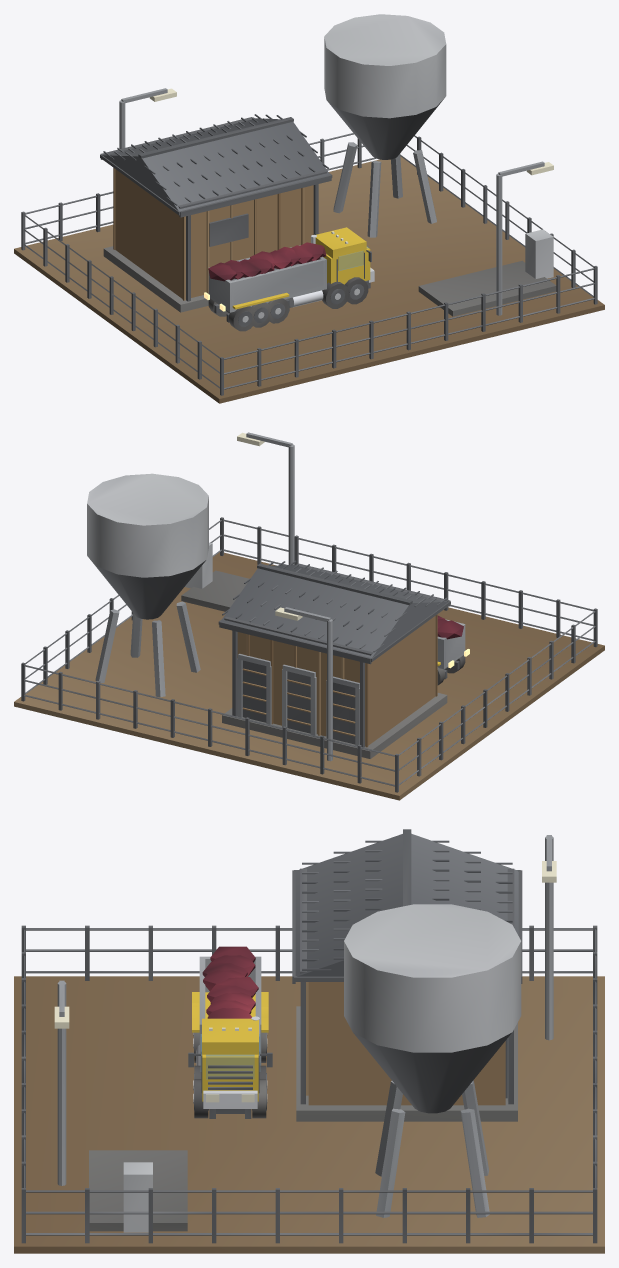
Rendered from Haul_P1.fbx.
3 renders of one model, top to bottom at view 1: azimuth 30°, elevation 25°; view 2: azimuth 150°, elevation 25°; view 3: azimuth 270°, elevation 25°, orthographic. The views are drawn at different scales.
Visible parts, largest first — view 1: Haul.Yard, Haul.Workshop, Haul.Hopper, Haul.Parked0, Haul.Fence, Haul.Weighbridge, Haul.Lamp0, Haul.Lamp1; view 2: Haul.Yard, Haul.Workshop, Haul.Hopper, Haul.Fence, Haul.Weighbridge, Haul.Parked0, Haul.Lamp1, Haul.Lamp0; view 3: Haul.Yard, Haul.Hopper, Haul.Workshop, Haul.Fence, Haul.Parked0, Haul.Weighbridge, Haul.Lamp0, Haul.Lamp1.
Part boxes in pixels (x1,y1,x2,y2): Haul.Yard: [14, 156, 604, 403]; Haul.Workshop: [100, 114, 332, 312]; Haul.Hopper: [324, 14, 446, 237]; Haul.Parked0: [204, 227, 374, 331]; Haul.Fence: [21, 133, 597, 395]; Haul.Weighbridge: [418, 229, 556, 316]; Haul.Lamp0: [496, 161, 553, 315]; Haul.Lamp1: [119, 88, 176, 148]; Haul.Yard: [14, 552, 604, 800]; Haul.Workshop: [218, 560, 450, 758]; Haul.Hopper: [87, 473, 208, 697]; Haul.Fence: [21, 517, 597, 792]; Haul.Weighbridge: [181, 542, 249, 611]; Haul.Parked0: [437, 615, 469, 685]; Haul.Lamp1: [275, 607, 332, 761]; Haul.Lamp0: [237, 432, 294, 564]; Haul.Yard: [14, 976, 604, 1253]; Haul.Hopper: [344, 904, 521, 1217]; Haul.Workshop: [292, 829, 522, 1121]; Haul.Fence: [21, 925, 597, 1243]; Haul.Parked0: [188, 946, 272, 1118]; Haul.Weighbridge: [89, 1150, 187, 1232]; Haul.Lamp0: [54, 980, 69, 1185]; Haul.Lamp1: [542, 835, 556, 1040].
Bounding box in the file's own units: 2600 × 1167 × 2400.
